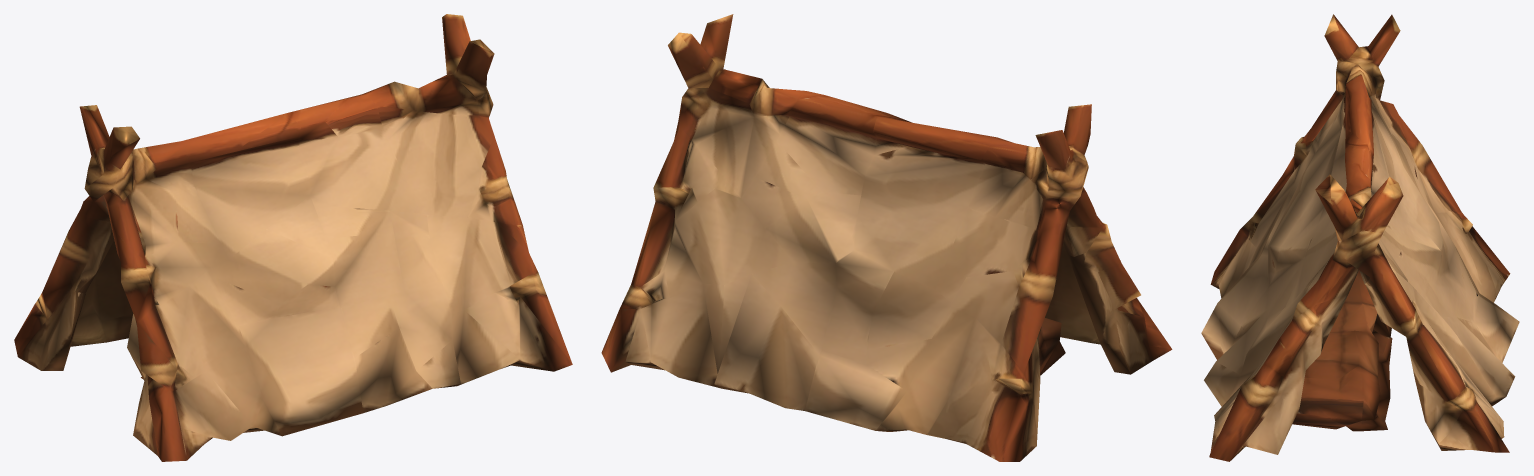
Rendered from barraca.glb.
3 views of the same model, side by side, from view 1: azimuth 30°, elevation 25°; view 2: azimuth 150°, elevation 25°; view 3: azimuth 270°, elevation 25° (orthographic). The views are drawn at different scales.
Visible parts, largest first — view 1: tripo_node_acbd8cd5-38a2-4d05-9dcf-2141fb237466; view 2: tripo_node_acbd8cd5-38a2-4d05-9dcf-2141fb237466; view 3: tripo_node_acbd8cd5-38a2-4d05-9dcf-2141fb237466.
Part boxes in pixels (x1,y1,x2,y2): tripo_node_acbd8cd5-38a2-4d05-9dcf-2141fb237466: (14,14,572,461); tripo_node_acbd8cd5-38a2-4d05-9dcf-2141fb237466: (601,14,1172,461); tripo_node_acbd8cd5-38a2-4d05-9dcf-2141fb237466: (1201,14,1519,461).
Bounding box in the file's own units: 0.9751 × 0.6583 × 0.6988.
1 material, 1 textured.
